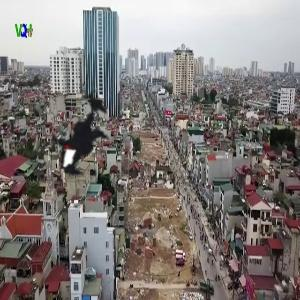drone: (9, 65, 145, 201)
